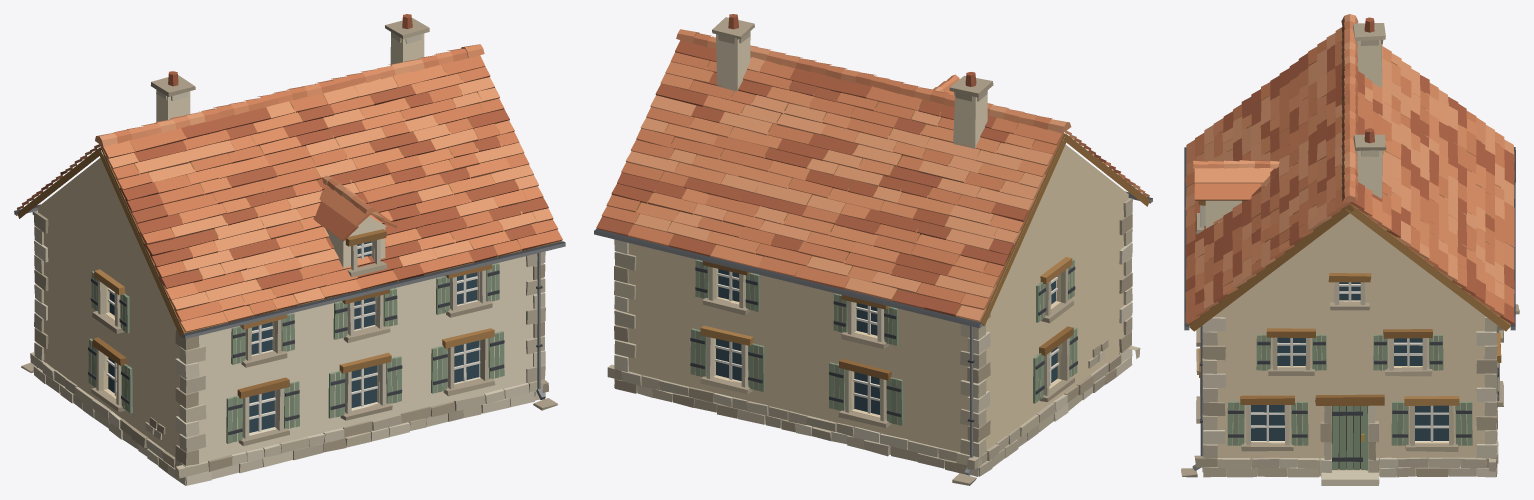
Rendered from maison.glb.
The picture shows the model from 3 angles, left to right: view 1: azimuth 30°, elevation 25°; view 2: azimuth 150°, elevation 25°; view 3: azimuth 270°, elevation 25°; orthographic projection. The views are drawn at different scales.
Parts seen in each view (by area): view 1: maison; view 2: maison; view 3: maison.
Boxes of the visible parts, bbox=[...] form: maison: bbox=[14, 14, 565, 485]; maison: bbox=[594, 14, 1152, 485]; maison: bbox=[1181, 14, 1519, 485].
Bounding box in the file's own units: 12.06 × 9.88 × 9.39.
